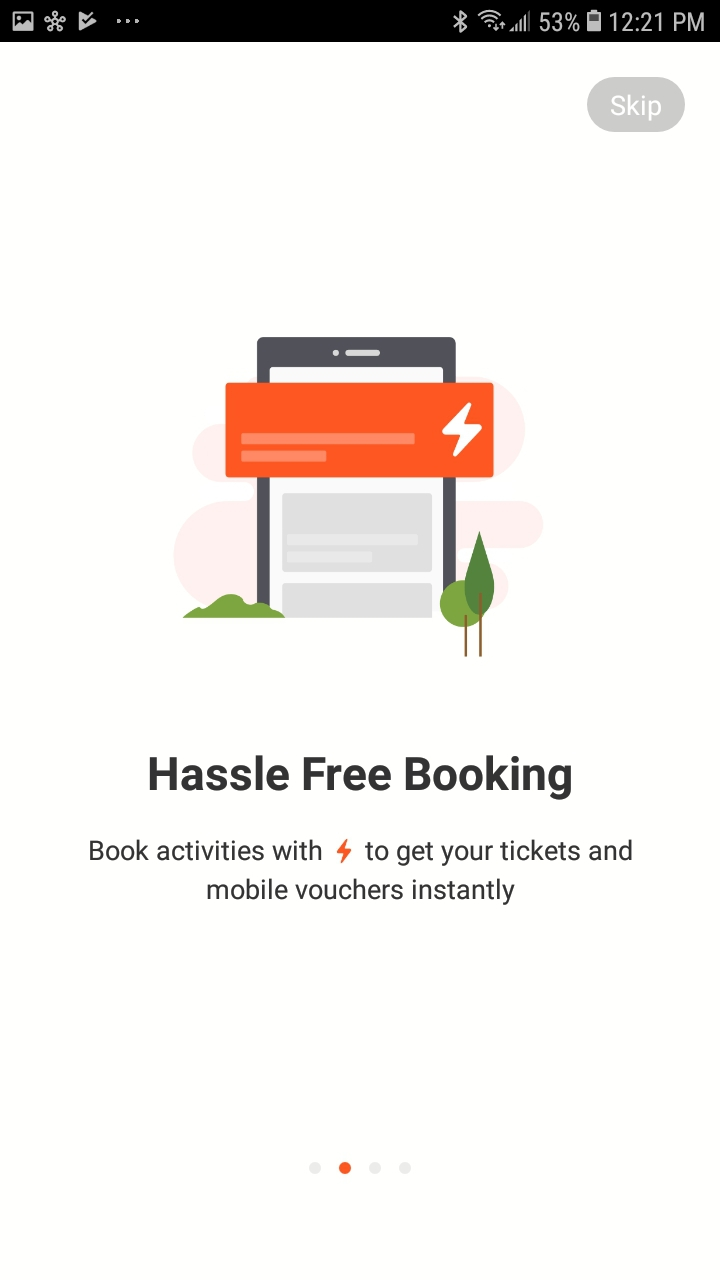Image: (172, 336, 545, 657)
PageIndicator: (308, 1161, 412, 1175)
Text: (90, 839, 633, 906), (149, 755, 572, 801)
TextButton: (587, 78, 686, 134)
UpperTaskBar: (1, 1, 720, 43)
